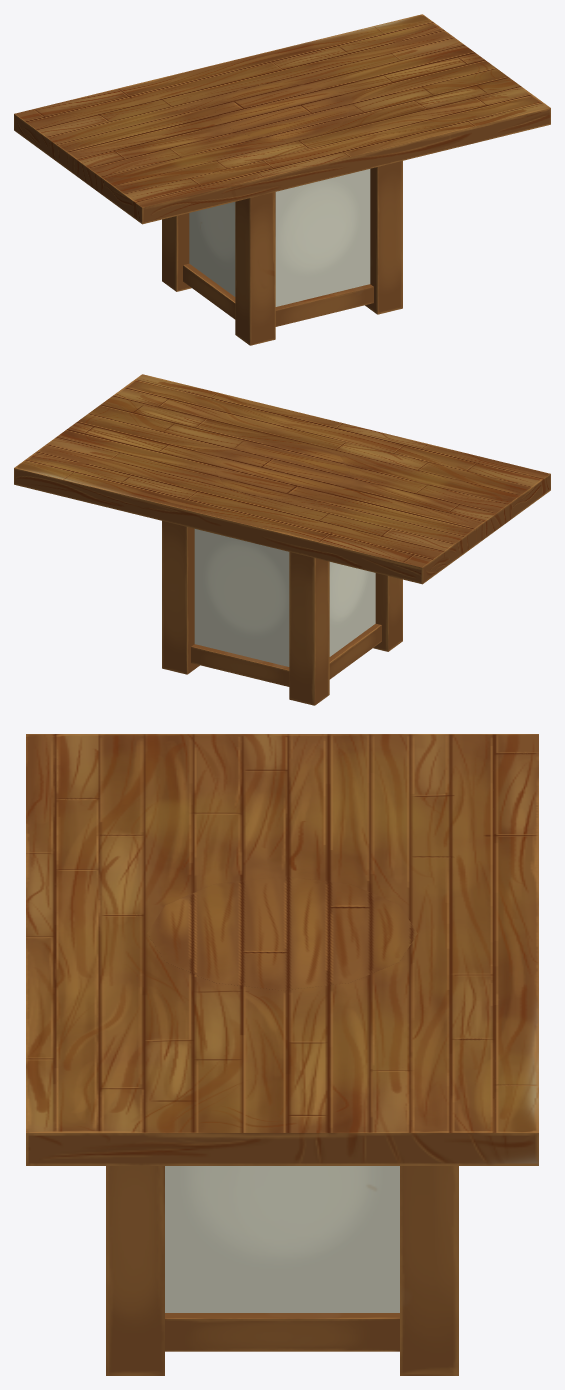
Rendered from table_nogrill.fbx.
3 views of the same model, one above another, from view 1: azimuth 30°, elevation 25°; view 2: azimuth 150°, elevation 25°; view 3: azimuth 270°, elevation 25° (orthographic). The views are drawn at different scales.
Parts seen in each view (by area): view 1: table; view 2: table; view 3: table.
Part boxes in pixels (x1,y1,x2,y2): table: [14, 14, 550, 345]; table: [14, 374, 550, 705]; table: [26, 734, 538, 1375].
Size of the model in its own units: 642 by 276 by 349.
